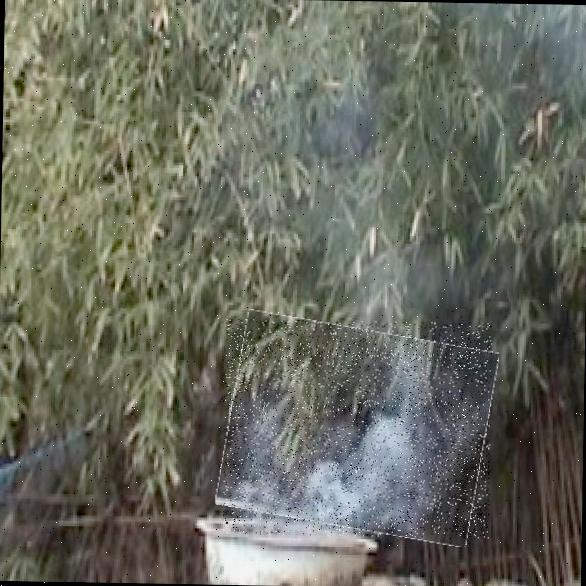smoke: (222, 319, 492, 539)
